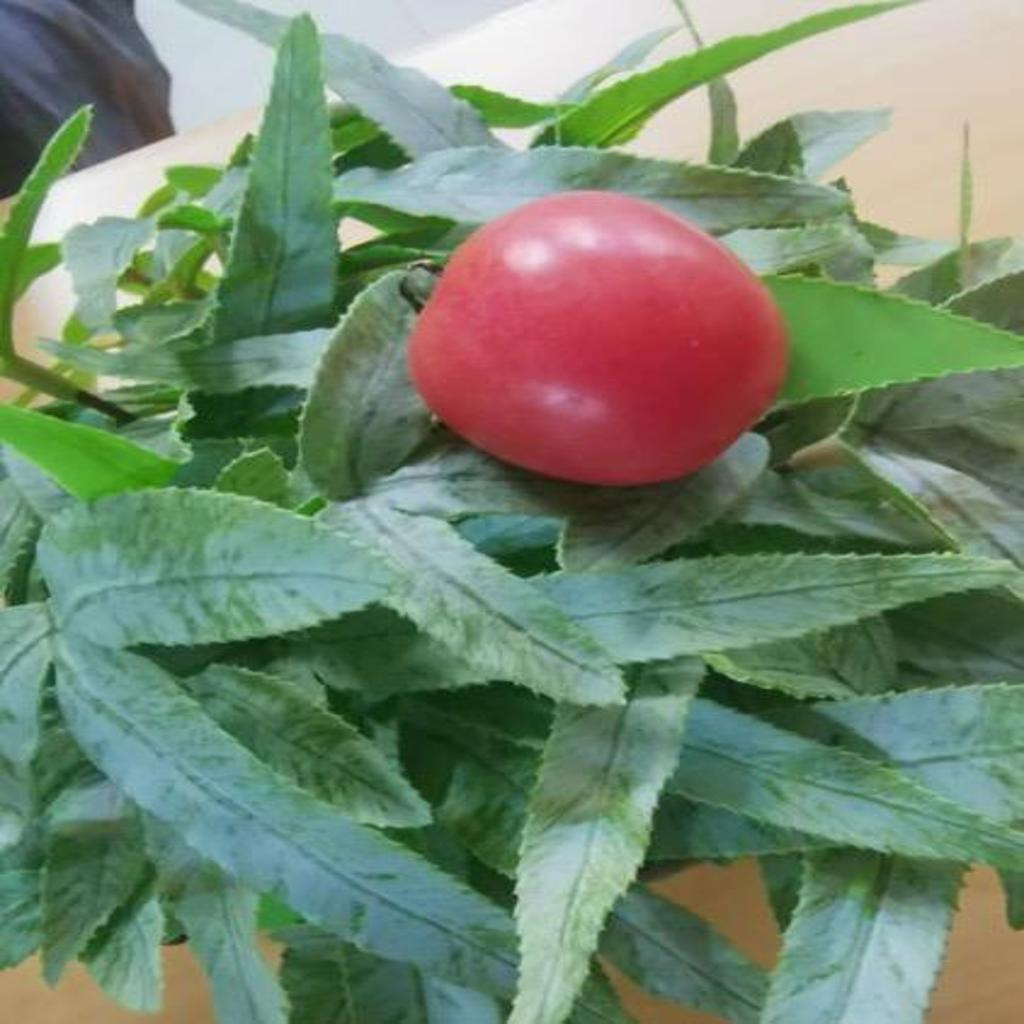tomato: (409, 199, 783, 497)
